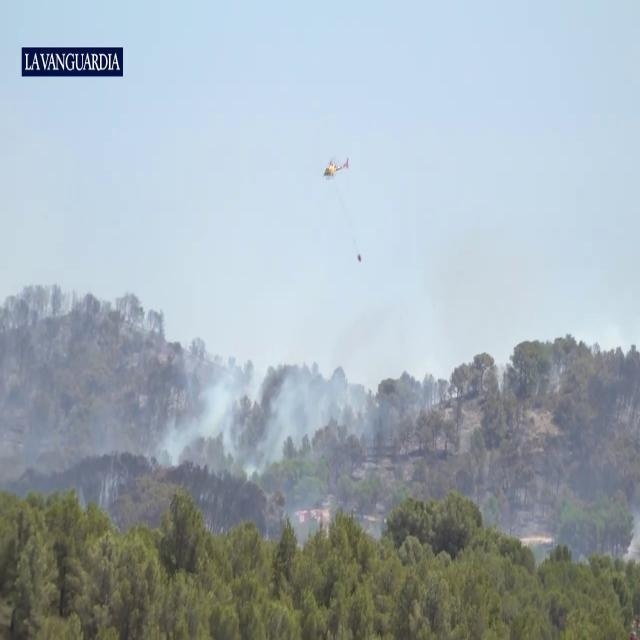Smoke: (152, 338, 320, 489)
